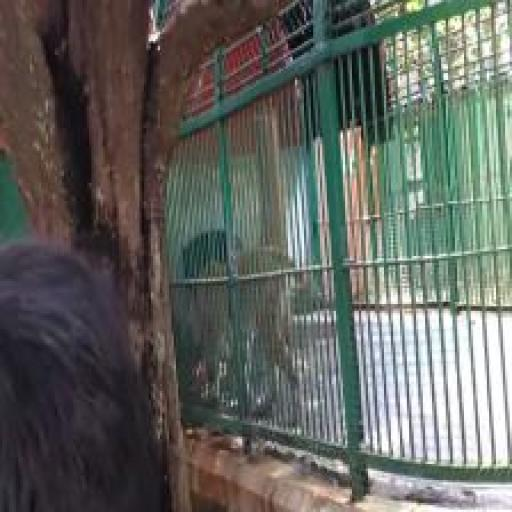Tiger: (178, 238, 327, 431)
